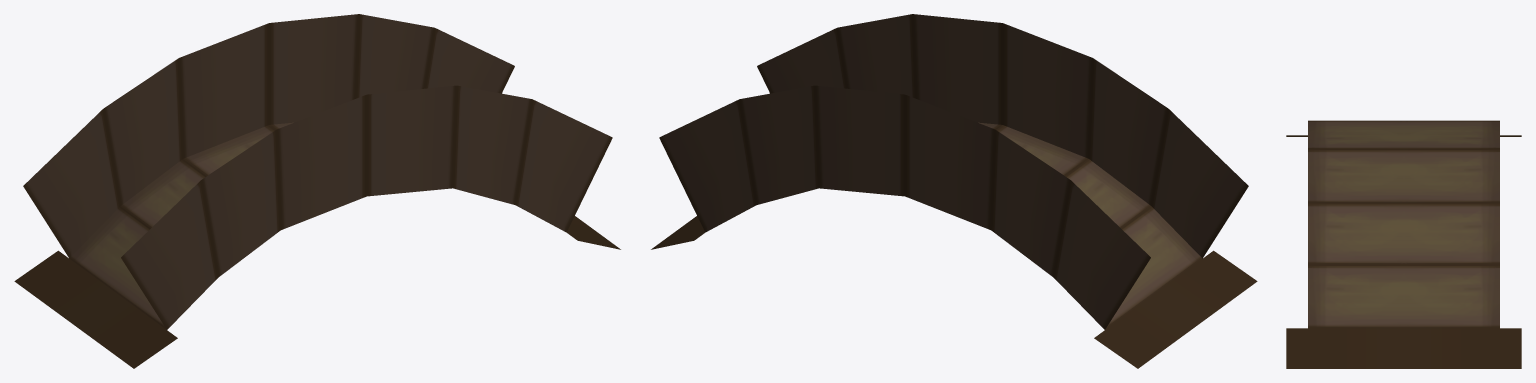
The model's file is BridgeCollisionMesh.fbx.
3 views of the same model, side by side, from view 1: azimuth 30°, elevation 25°; view 2: azimuth 150°, elevation 25°; view 3: azimuth 270°, elevation 25° (orthographic).
Parts seen in each view (by area): view 1: Object001; view 2: Object001; view 3: Object001.
Part boxes in pixels (x1,y1,x2,y2): Object001: [14, 14, 620, 368]; Object001: [651, 14, 1257, 368]; Object001: [1286, 120, 1521, 368].
Size of the model in its own units: 371 by 156 by 149.
